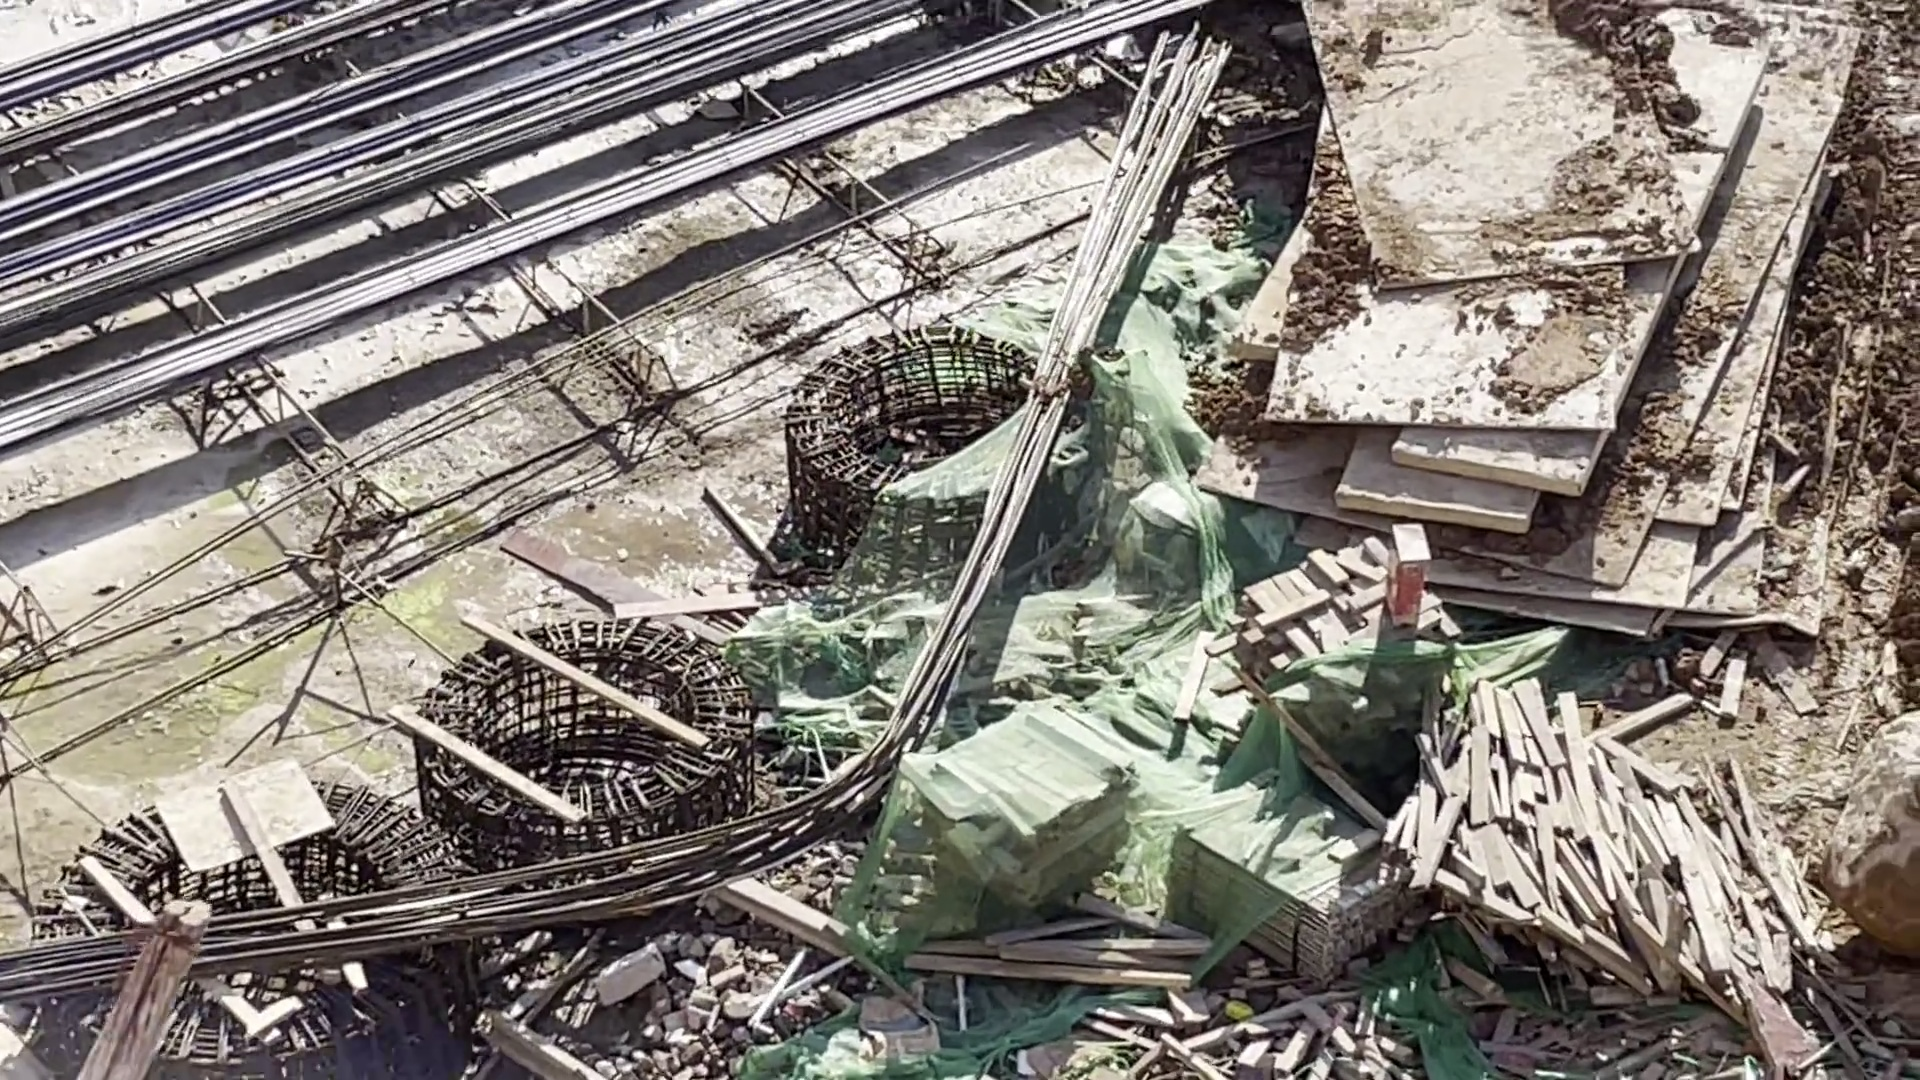board: (1213, 1, 1865, 637)
rebar: (1, 1, 1064, 419), (1, 733, 924, 969), (926, 4, 1241, 629)
wood: (1385, 669, 1791, 1014), (1170, 799, 1412, 982), (934, 698, 1142, 902)
